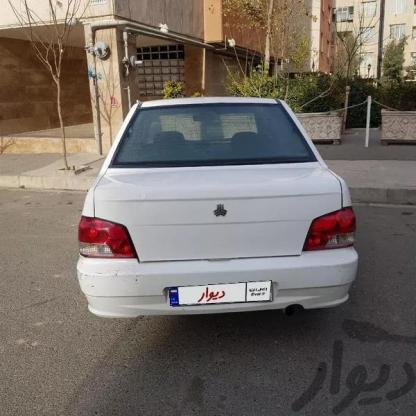Car: (67, 93, 364, 333)
